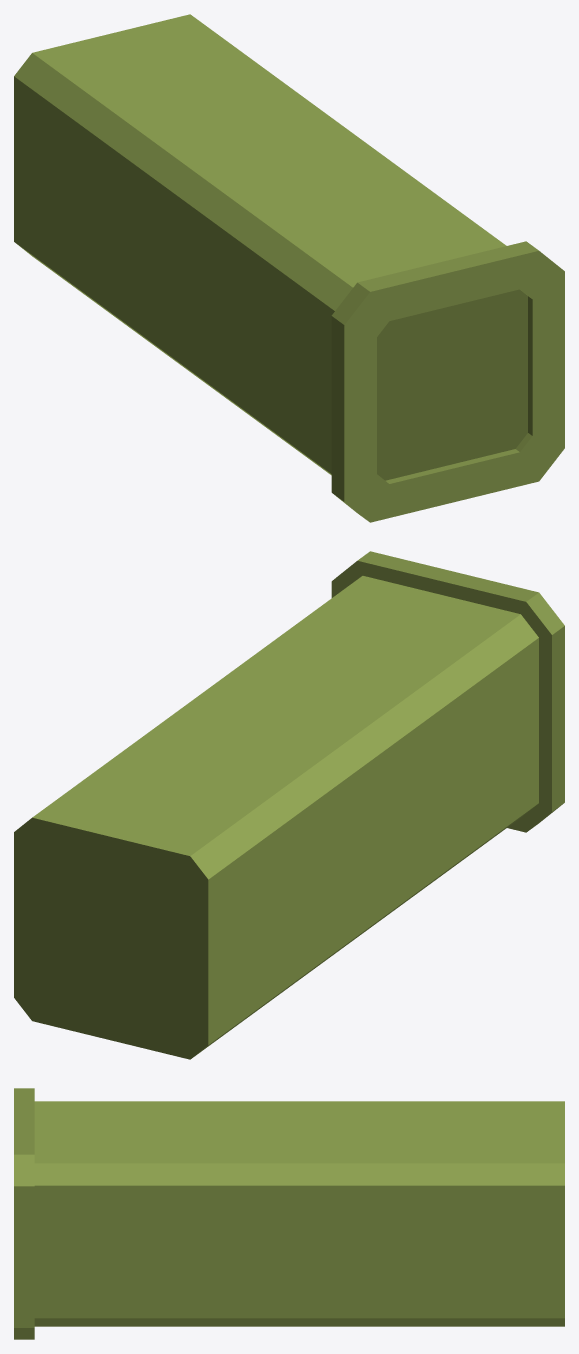
File: Armary.FBX
The picture shows the model from 3 angles, top to bottom: view 1: azimuth 30°, elevation 25°; view 2: azimuth 150°, elevation 25°; view 3: azimuth 270°, elevation 25°; orthographic projection. The views are drawn at different scales.
Parts seen in each view (by area): view 1: Armary; view 2: Armary; view 3: Armary.
Boxes of the visible parts, <box> form: Armary: <box>14,14,564,522</box>; Armary: <box>14,551,564,1059</box>; Armary: <box>14,1088,564,1339</box>.
Size of the model in its own units: 0.3402 by 0.3402 by 0.9179.
1 material, 1 textured.
